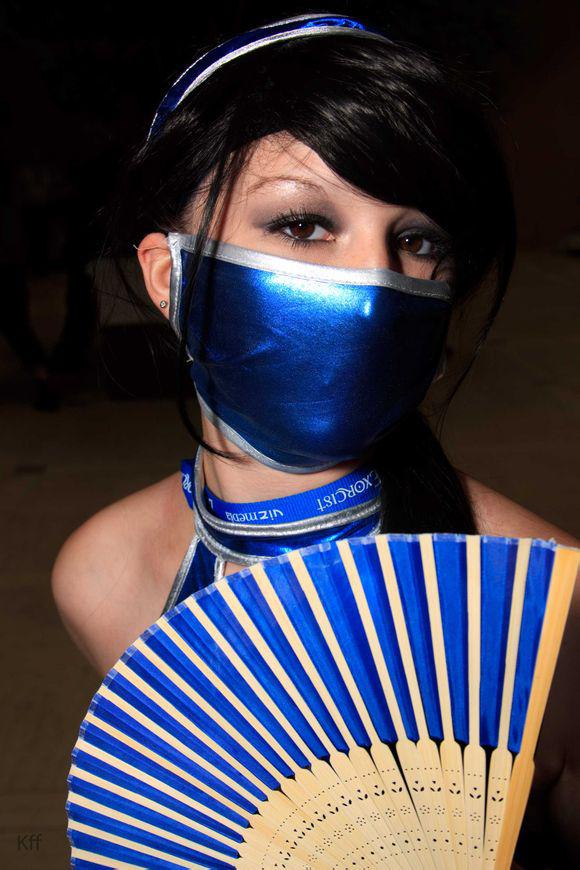OK: (203, 173, 466, 450)
